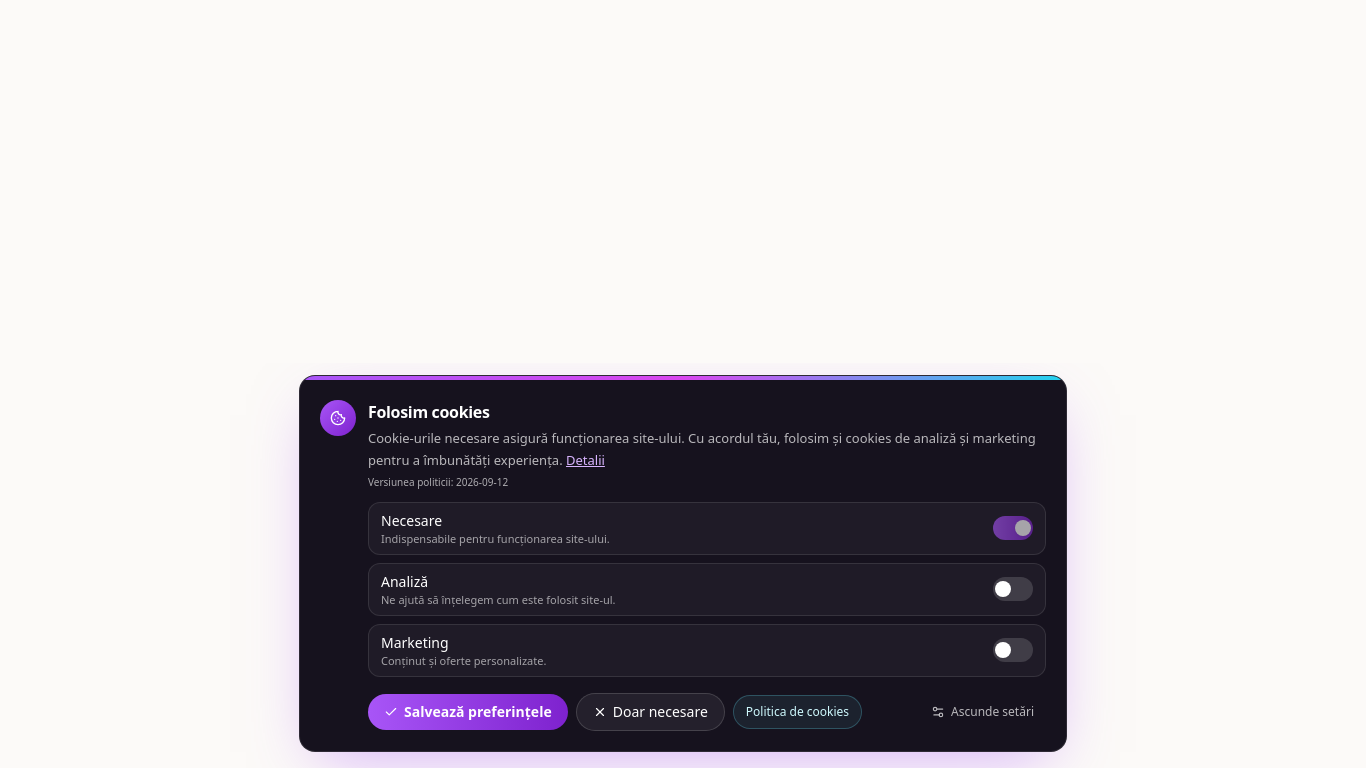
Test: cookie preferences across tabs › keeps settings and unsaved edits open after a timestamp-only storage write
Click the switch named "Analiză". click: x=1013, y=589
box: 993,577 -> 1033,601
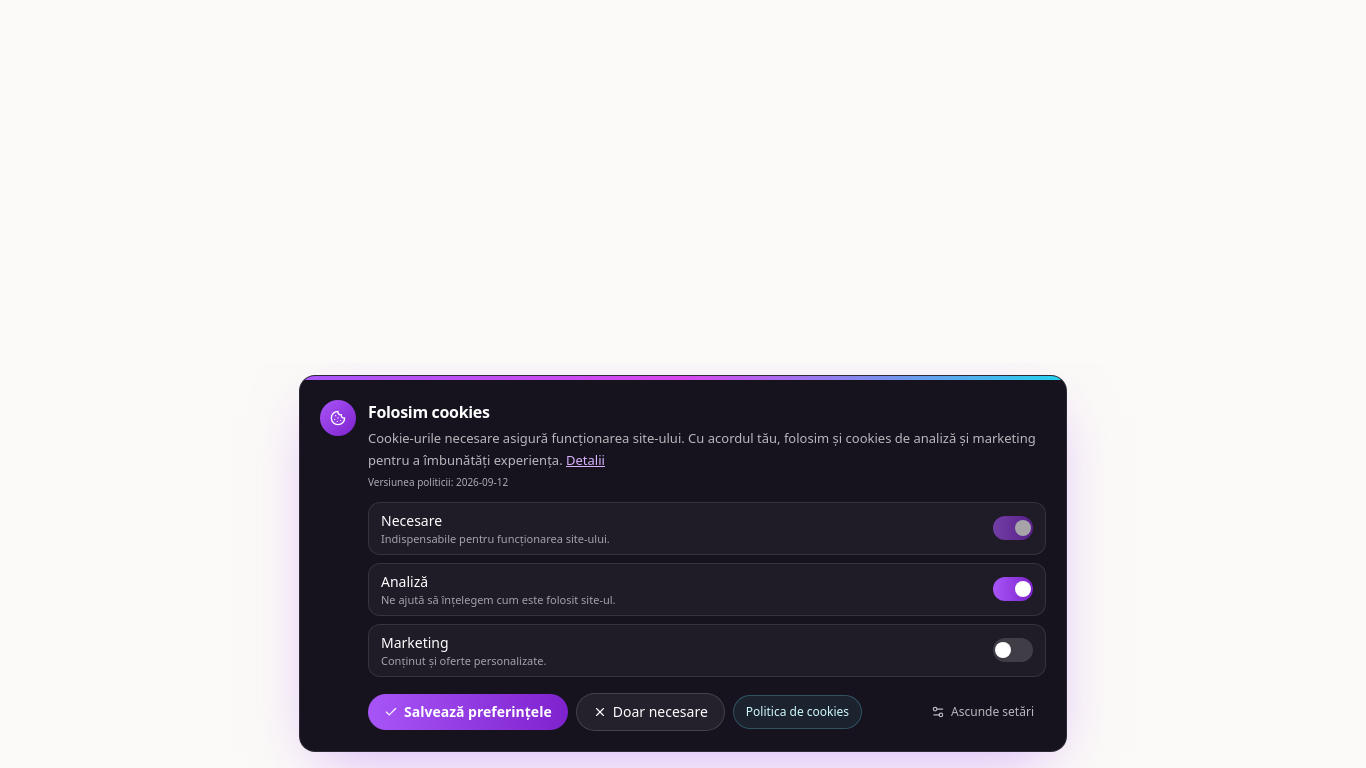
Check: the dialog is shown, box 299,375 -> 1067,752
Check: the switch named "Analiză" is checked, box 993,577 -> 1033,601
